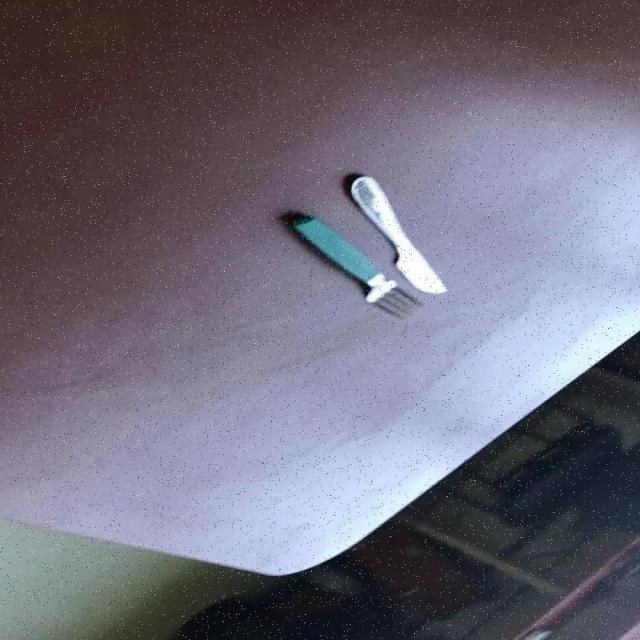Fork: (293, 214, 427, 318)
Knife: (293, 213, 427, 318), (351, 174, 451, 294)
